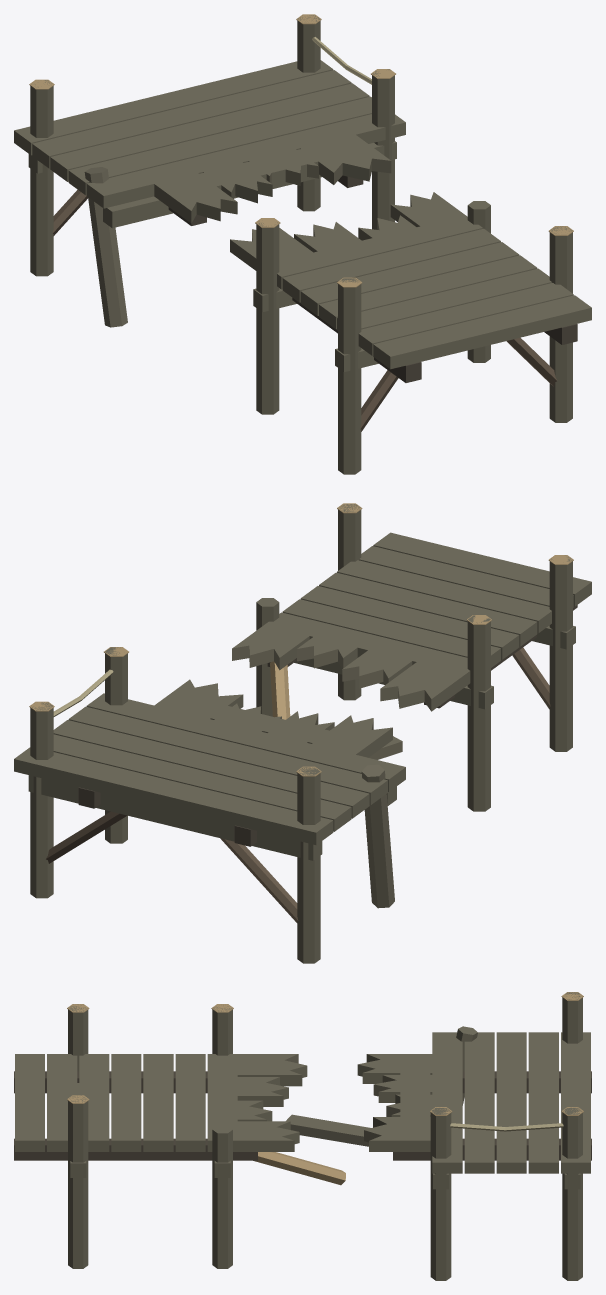
The model's file is Dock_Ruined.fbx.
3 renders of one model, top to bottom at view 1: azimuth 30°, elevation 25°; view 2: azimuth 150°, elevation 25°; view 3: azimuth 270°, elevation 25°, orthographic. The views are drawn at different scales.
Parts seen in each view (by area): view 1: Dock_Ruined; view 2: Dock_Ruined; view 3: Dock_Ruined.
Part boxes in pixels (bbox=[...]): Dock_Ruined: bbox=[14, 14, 591, 474]; Dock_Ruined: bbox=[14, 503, 591, 963]; Dock_Ruined: bbox=[14, 992, 591, 1280].
Bounding box in the file's own units: 4.8 × 2.85 × 9.
